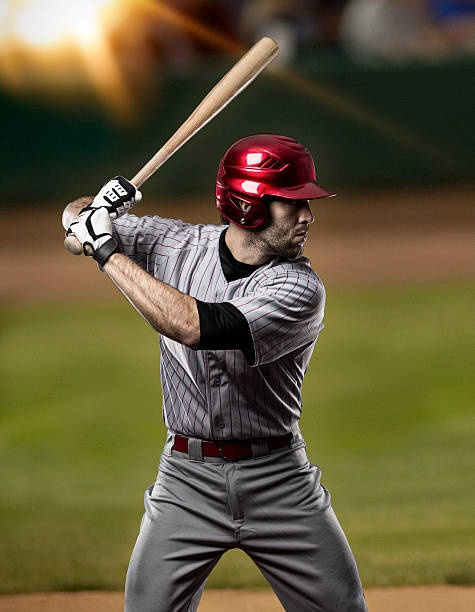bita: (126, 40, 272, 197)
